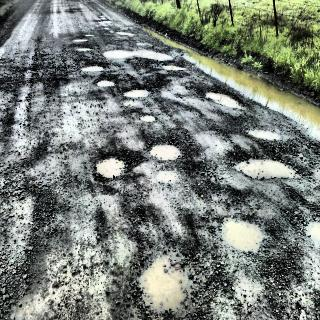pothole: (0, 178, 72, 294), (120, 248, 198, 306), (212, 203, 270, 260), (231, 147, 295, 193), (192, 82, 248, 112), (99, 45, 170, 68), (145, 131, 186, 163), (116, 85, 154, 109), (96, 153, 128, 179), (298, 208, 320, 245), (245, 122, 285, 140), (158, 60, 190, 78), (151, 166, 177, 185), (134, 111, 157, 129), (109, 28, 137, 41), (93, 79, 117, 92), (76, 63, 107, 73), (97, 17, 116, 27), (70, 36, 87, 46)
